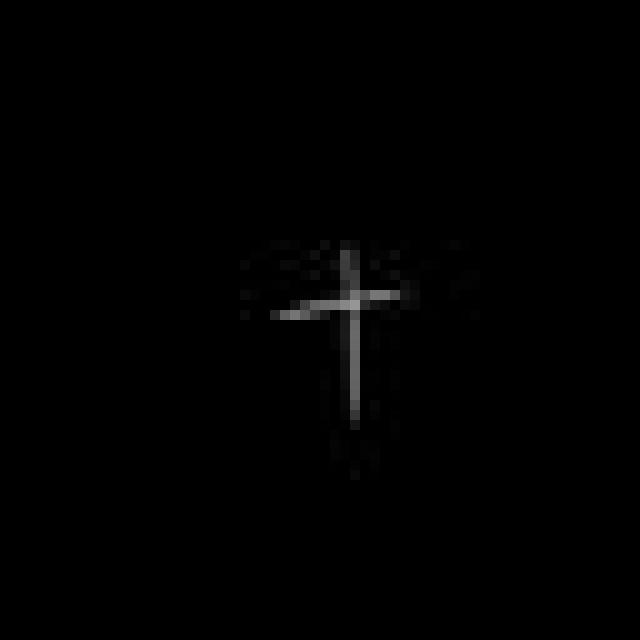10 -ten-: (263, 239, 412, 435)
